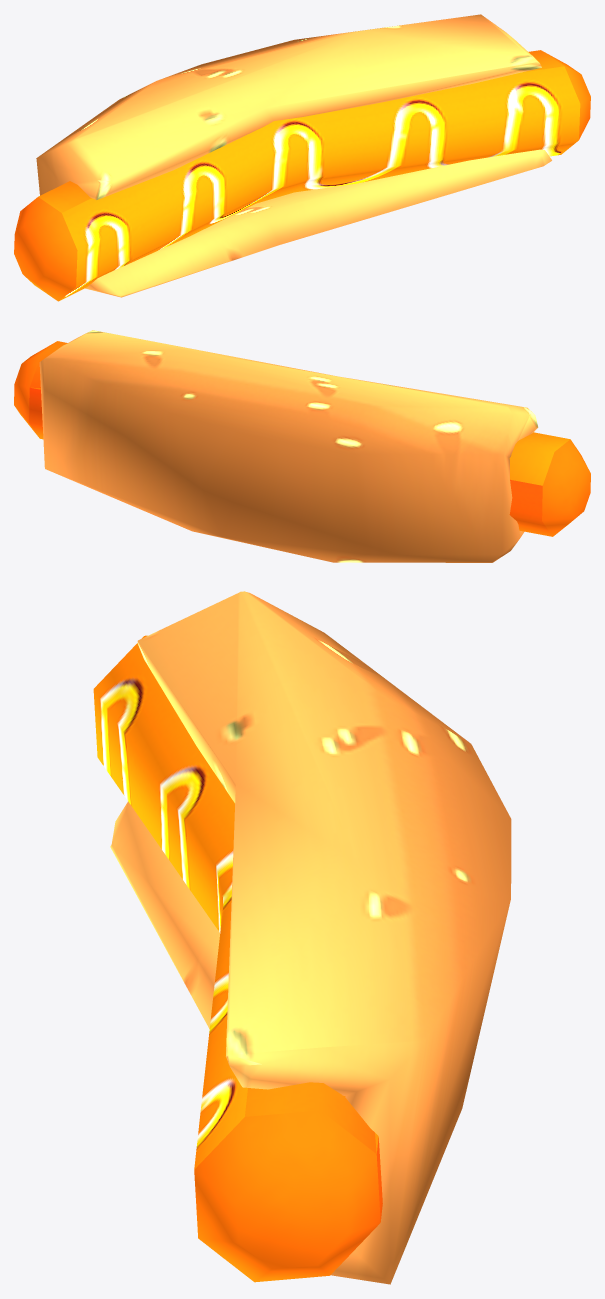
File: orange_hotdog.glb
3 renders of one model, top to bottom at view 1: azimuth 30°, elevation 25°; view 2: azimuth 150°, elevation 25°; view 3: azimuth 270°, elevation 25°, orthographic. The views are drawn at different scales.
Visible parts, largest first — view 1: Orange_HotDog; view 2: Orange_HotDog; view 3: Orange_HotDog.
Boxes of the visible parts, <box> form: Orange_HotDog: <box>14,14,590,301</box>; Orange_HotDog: <box>14,330,590,562</box>; Orange_HotDog: <box>93,591,511,1284</box>.
Size of the model in its own units: 0.8063 by 0.2462 by 0.2744.
Materials: 1 (1 with a texture image).
